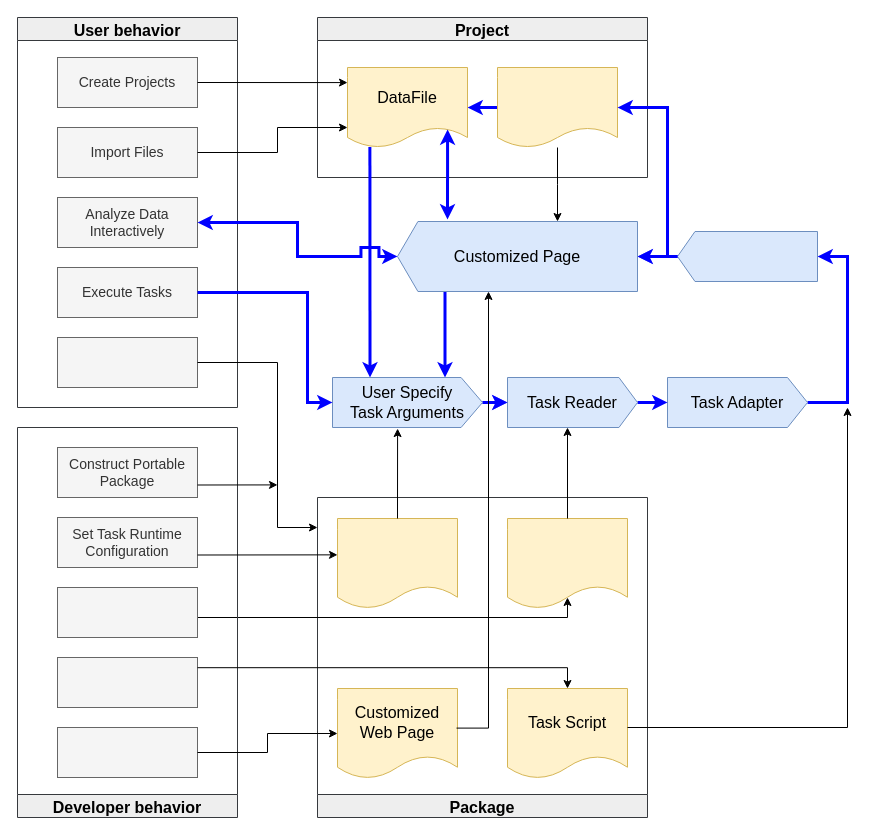
The diagram is 874 pixels wide and 835 high, and some of its shapes have lost their labels. Here are the shapes that lost their labels. From the top down, the centre of each, then its label:
pixel 557 107: Result
pixel 747 256: Task Execution
pixel 127 362: Install Package
pixel 397 563: Task Setting
pixel 567 563: Workflow Playbook
pixel 127 612: Write Task Definition
pixel 127 682: Write Task Script
pixel 127 752: Write Customized Web Page
